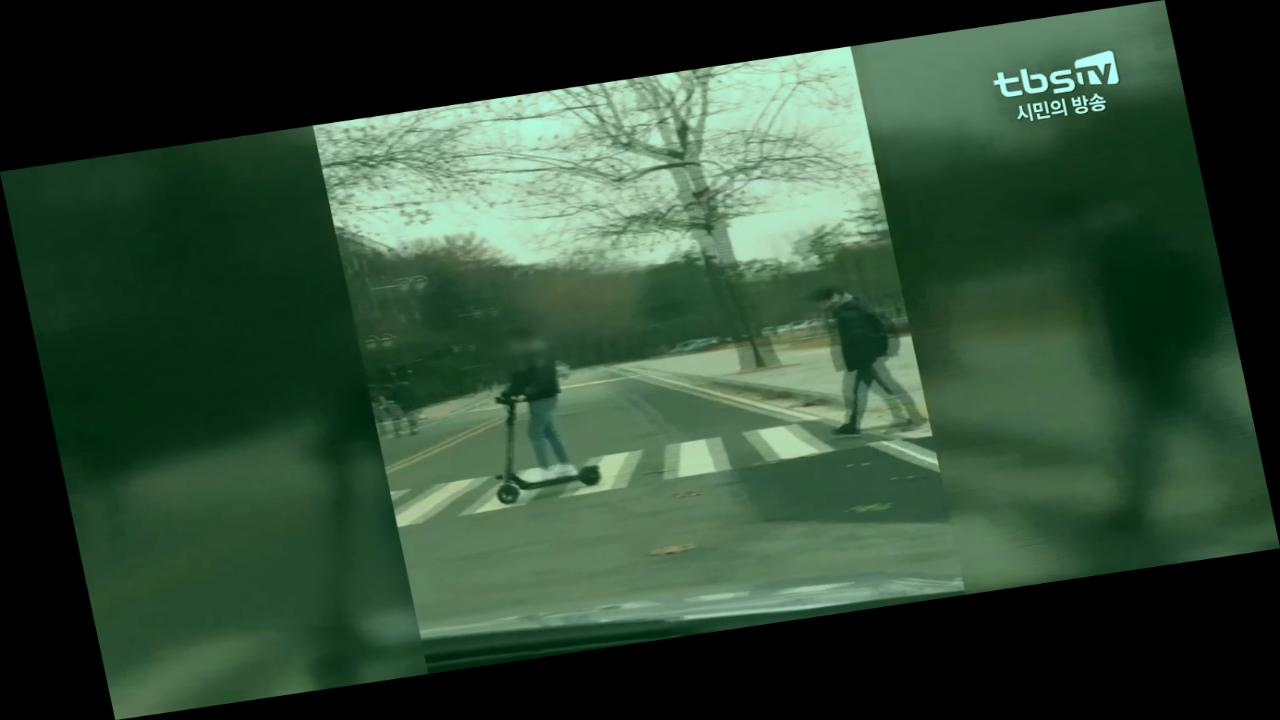nonhelmet: (456, 318, 609, 508)
